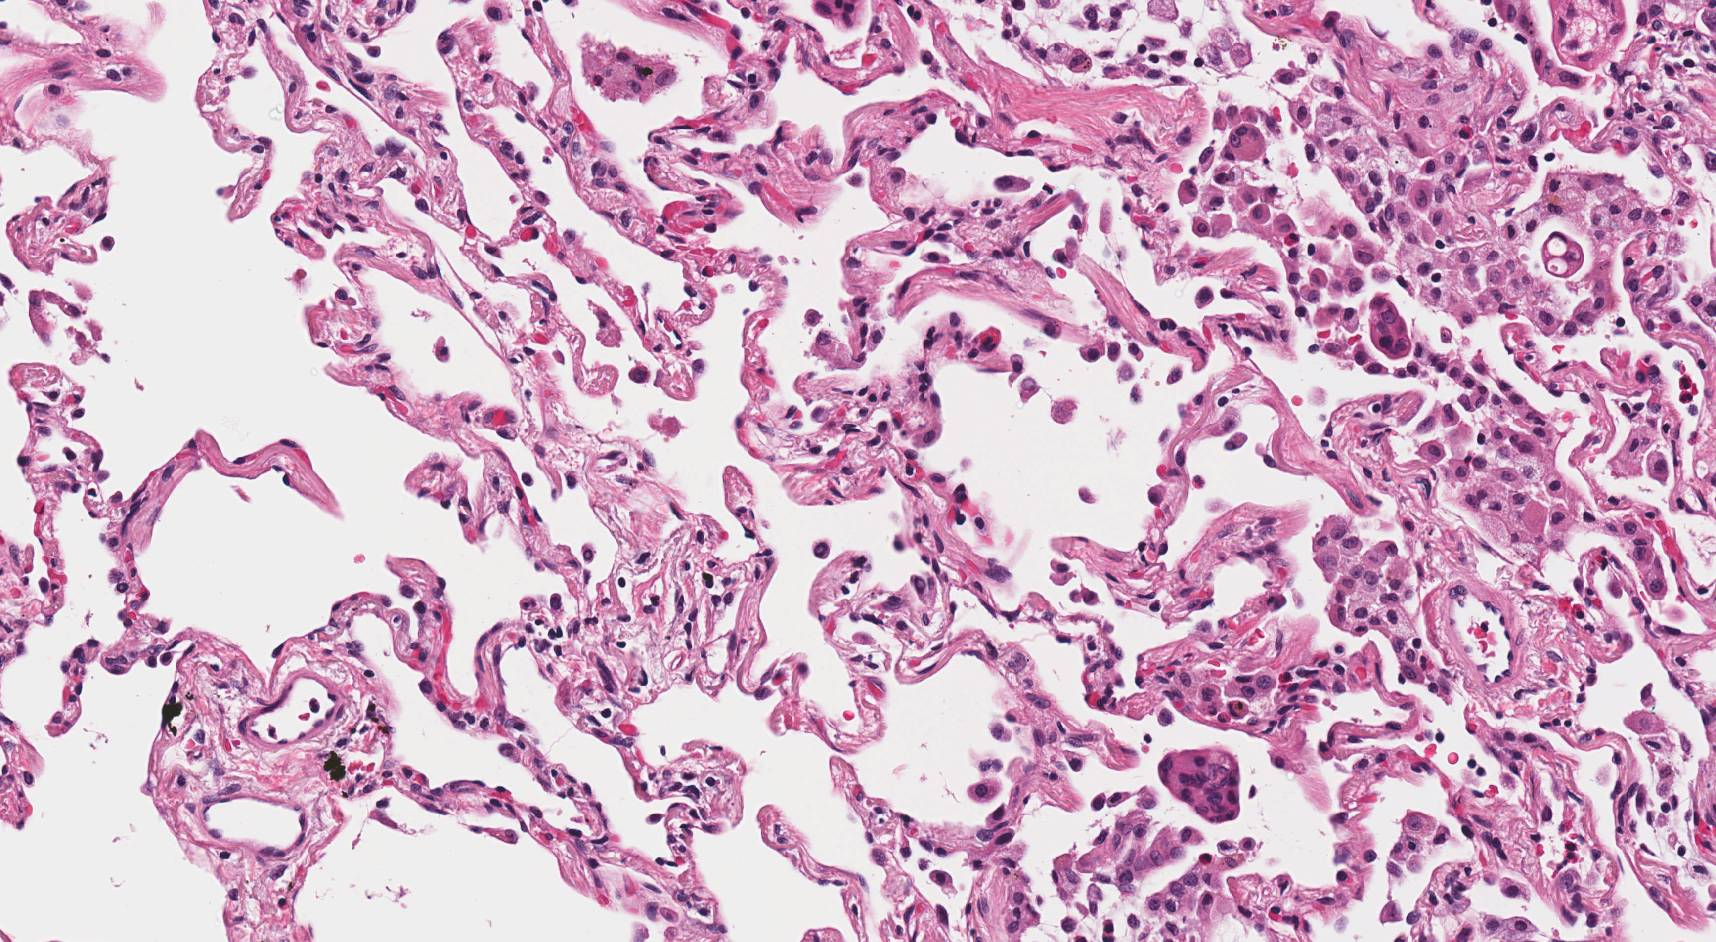stas: (1157, 748, 1242, 824), (1368, 294, 1412, 357), (1541, 231, 1583, 280)
